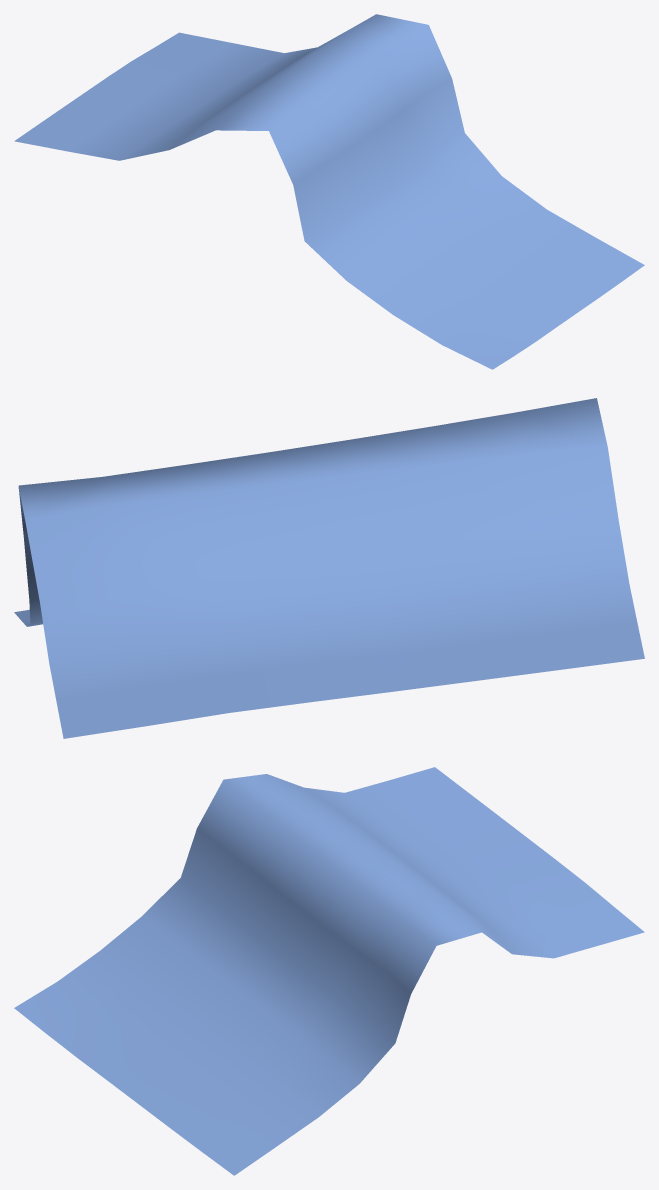
Rendered from EsparadrapoFijadoSuperior.fbx.
3 views of the same model, one above another, from view 1: azimuth 30°, elevation 25°; view 2: azimuth 150°, elevation 25°; view 3: azimuth 270°, elevation 25° (orthographic). The views are drawn at different scales.
Parts seen in each view (by area): view 1: polySurface43; view 2: polySurface43; view 3: polySurface43.
Part boxes in pixels (<box>): polySurface43: <box>14,14,644,369</box>; polySurface43: <box>14,398,644,738</box>; polySurface43: <box>14,767,644,1175</box>.
Size of the model in its own units: 0.0389 by 0.0164 by 0.0427.
